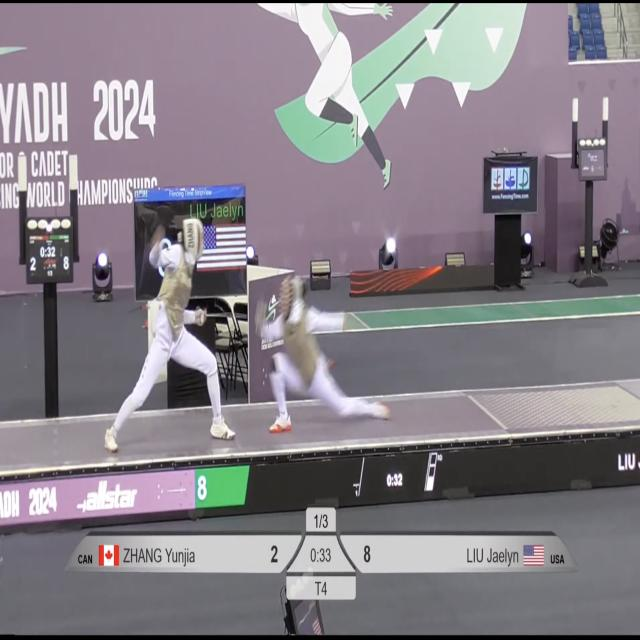fencer: (103, 200, 239, 452), (250, 264, 401, 443)
overlayLeft: (67, 533, 255, 574)
overlayRight: (386, 535, 579, 572)
scoreLeft: (261, 533, 309, 573)
scoreRight: (333, 535, 383, 572)
